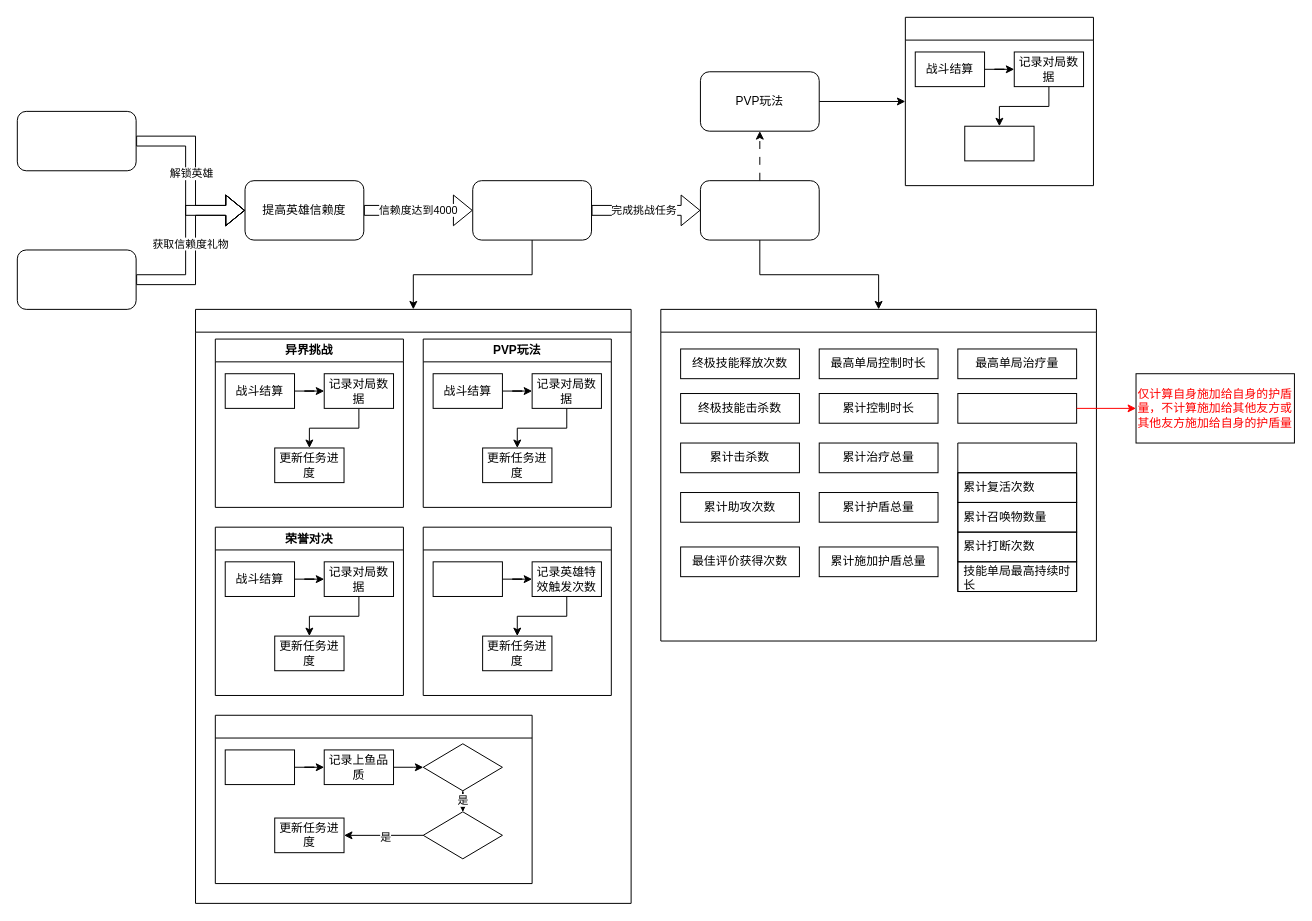
The diagram is 1312 pixels wide and 921 high, and some of its shapes have lost their labels. The shapes that lost their labels are listed below. From the top down, each one's box as (x1, y1, x2, y2) in pixels, then its label:
(904, 16, 1093, 186): 记录流程
(16, 110, 136, 171): 抽卡、商店
(964, 125, 1034, 161): 更新铭记之石数据
(472, 180, 592, 240): 解锁成就勋章挑战
(699, 180, 819, 240): 解锁铭记之石
(16, 249, 136, 309): 大世界探索和活动任务
(957, 393, 1077, 423): 最高单局护盾量
(660, 308, 1096, 641): 涉及数据
(957, 442, 1077, 592): 英雄特色数据
(432, 561, 502, 596): 家园生产
(195, 308, 631, 903): 涉及玩法
(422, 526, 611, 695): 家园系统
(224, 749, 295, 785): 大世界钓鱼
(422, 743, 502, 791): 品质是否达标
(214, 714, 532, 884): 钓鱼
(422, 811, 502, 859): 目标英雄是否位于冒险小队
